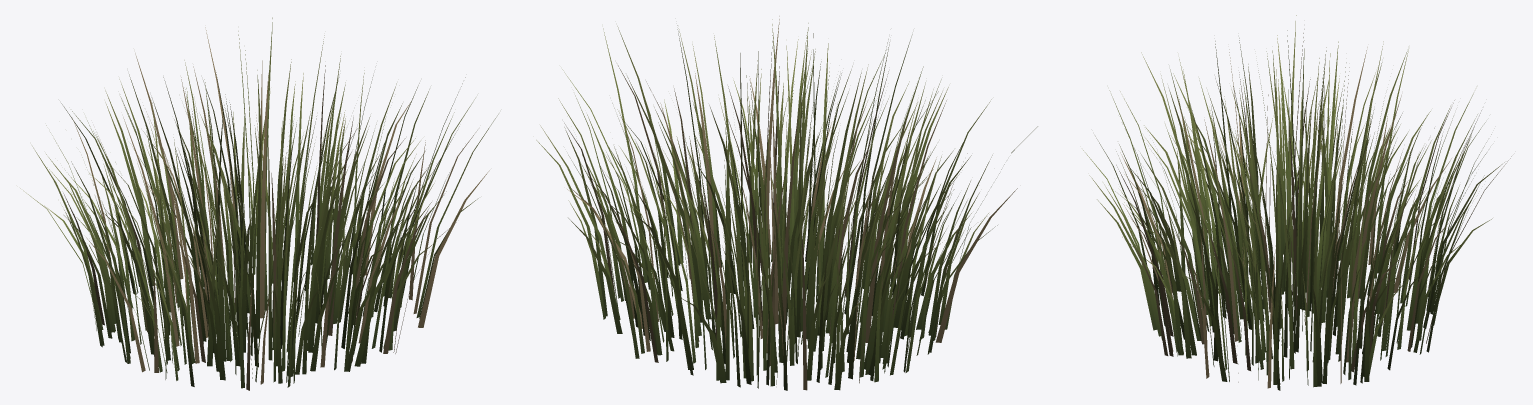
Rendered from marsh-grass.glb.
3 renders of one model, left to right at view 1: azimuth 30°, elevation 25°; view 2: azimuth 150°, elevation 25°; view 3: azimuth 270°, elevation 25°, orthographic. The views are drawn at different scales.
Parts seen in each view (by area): view 1: MarshGrass; view 2: MarshGrass; view 3: MarshGrass.
Boxes of the visible parts, x1,y1,x2,y2 form: MarshGrass: (20,17,498,390); MarshGrass: (536,16,1037,390); MarshGrass: (1083,15,1511,390).
Size of the model in its own units: 2.12 by 1.25 by 1.96.
